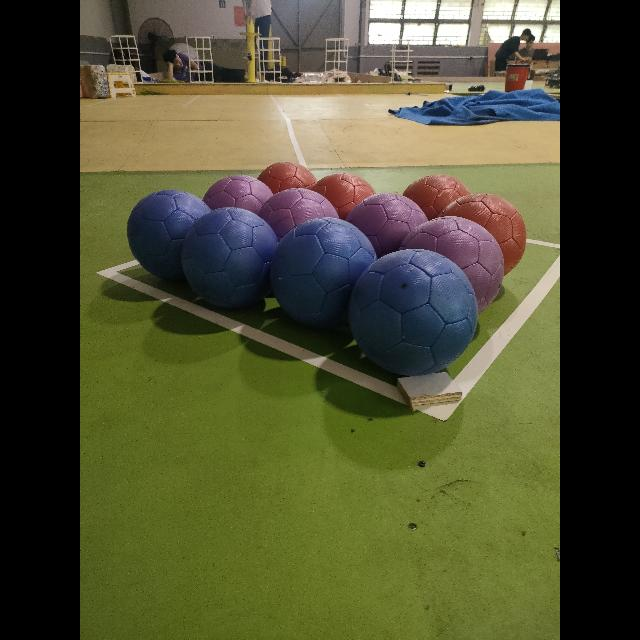B: (270, 218, 376, 328), (180, 208, 278, 308), (128, 190, 215, 284)
P: (398, 216, 504, 312), (352, 192, 428, 268), (260, 188, 338, 240)
R: (440, 194, 526, 274), (314, 174, 376, 218), (258, 162, 318, 194)
S: (105, 34, 144, 90), (182, 34, 218, 88), (324, 37, 350, 85), (258, 36, 282, 86), (391, 38, 413, 86)
